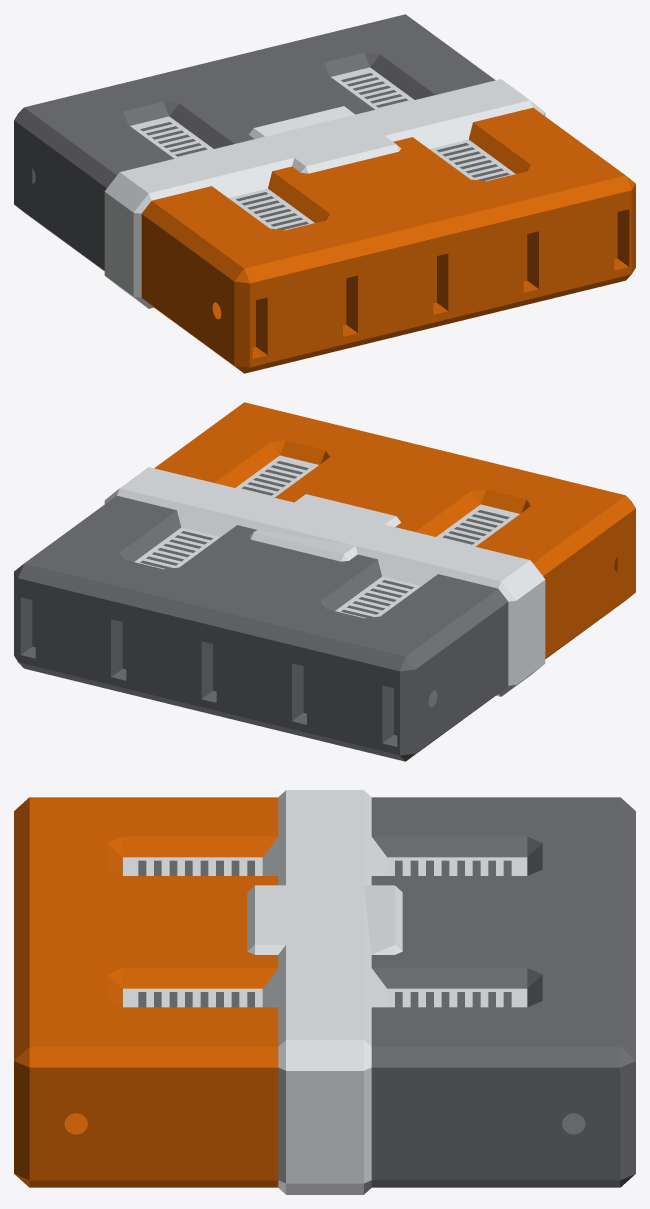
Rendered from JeanBot.fbx.
The picture shows the model from 3 angles, top to bottom: view 1: azimuth 30°, elevation 25°; view 2: azimuth 150°, elevation 25°; view 3: azimuth 270°, elevation 25°; orthographic projection. The views are drawn at different scales.
Parts seen in each view (by area): view 1: obj_0; view 2: obj_0; view 3: obj_0.
Part boxes in pixels (x1=…): obj_0: x1=14, y1=14, x2=635, y2=373; obj_0: x1=14, y1=402, x2=635, y2=761; obj_0: x1=14, y1=790, x2=635, y2=1194.
Size of the model in its own units: 64.07 by 17.19 by 62.5.
